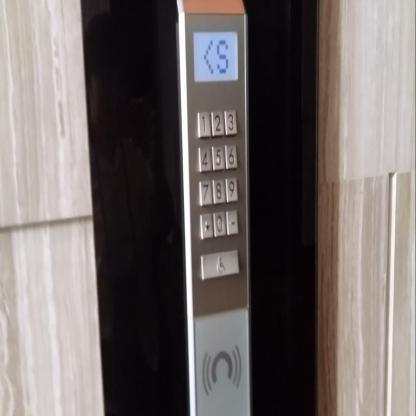-: (226, 208, 239, 236)
0: (213, 210, 227, 238)
1: (196, 110, 211, 138)
2: (210, 109, 225, 137)
3: (224, 108, 238, 136)
4: (197, 145, 212, 173)
5: (211, 144, 226, 172)
6: (224, 143, 238, 170)
7: (198, 178, 213, 206)
8: (212, 177, 226, 204)
9: (225, 175, 238, 203)
CH: (200, 249, 240, 278)
led: (192, 29, 240, 83)
s: (199, 212, 213, 240)
